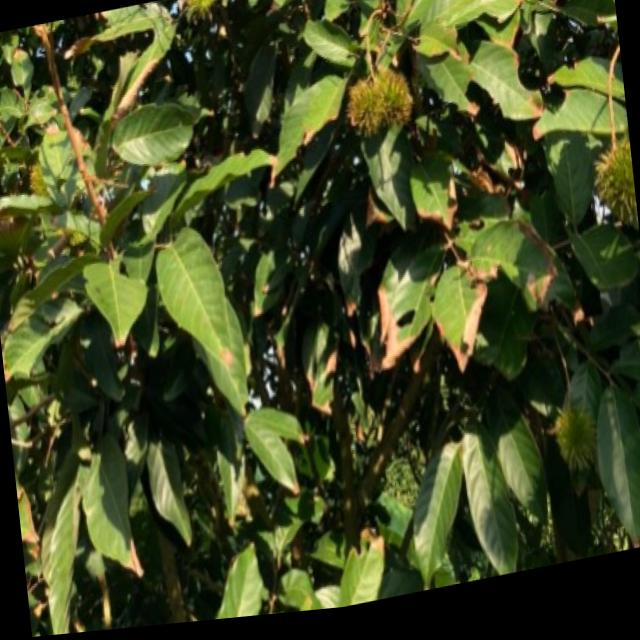Leaf Blight: (355, 149, 577, 396)
